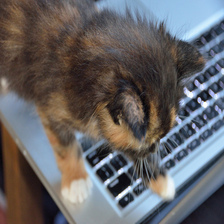laptop: (8, 9, 224, 223)
